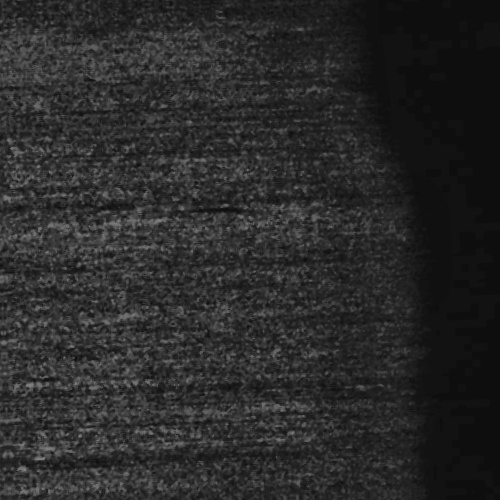object: (249, 202, 312, 209)
shadow: (192, 202, 281, 209)
